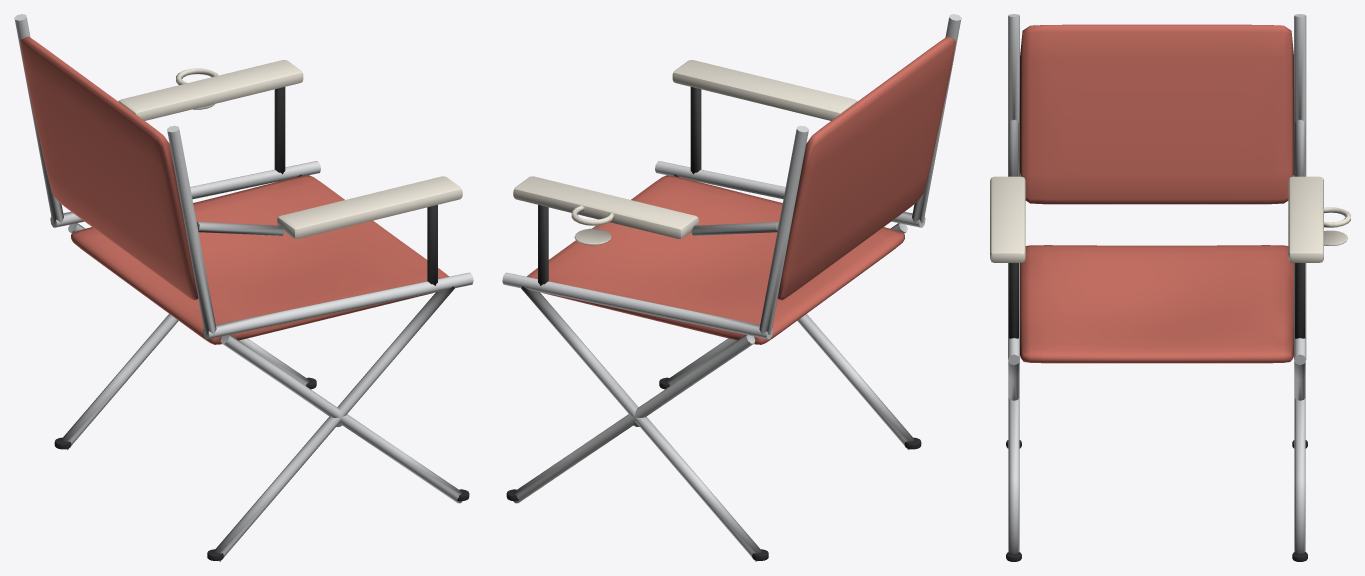
File: nd_chair_fold.glb
3 views of the same model, side by side, from view 1: azimuth 30°, elevation 25°; view 2: azimuth 150°, elevation 25°; view 3: azimuth 270°, elevation 25° (orthographic). The views are drawn at different scales.
Visible parts, largest first — view 1: PART; view 2: PART; view 3: PART.
Boxes of the visible parts, x1,y1,x2,y2 form: PART: [14, 14, 473, 561]; PART: [502, 14, 961, 561]; PART: [990, 14, 1350, 561].
Bounding box in the file's own units: 0.645 × 0.9005 × 0.7066.
